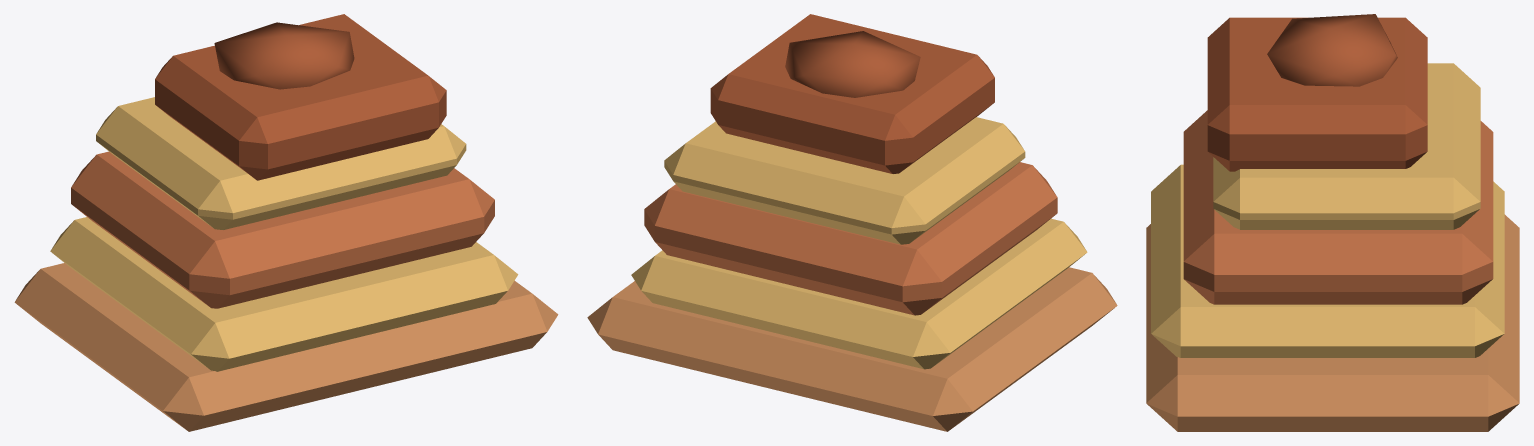
Rendered from hd_mesa_a.gltf.
3 renders of one model, left to right at view 1: azimuth 30°, elevation 25°; view 2: azimuth 150°, elevation 25°; view 3: azimuth 270°, elevation 25°, orthographic. The views are drawn at different scales.
Visible parts, largest first — view 1: strata0, strata2, strata1, strata4, strata3, cap; view 2: strata0, strata2, strata1, strata3, strata4, cap; view 3: strata0, strata2, strata4, strata1, strata3, cap.
Part boxes in pixels (x1=…): strata0: x1=14, y1=263, x2=558, y2=431; strata2: x1=71, y1=151, x2=494, y2=308; strata1: x1=50, y1=217, x2=518, y2=371; strata4: x1=155, y1=14, x2=446, y2=180; strata3: x1=96, y1=97, x2=466, y2=229; cap: x1=214, y1=22, x2=354, y2=89; strata0: x1=587, y1=267, x2=1117, y2=431; strata2: x1=644, y1=162, x2=1057, y2=315; strata1: x1=631, y1=218, x2=1087, y2=369; strata3: x1=664, y1=117, x2=1025, y2=244; strata4: x1=710, y1=14, x2=994, y2=173; cap: x1=785, y1=31, x2=920, y2=97; strata0: x1=1146, y1=214, x2=1519, y2=431; strata2: x1=1183, y1=110, x2=1493, y2=304; strata4: x1=1207, y1=17, x2=1427, y2=171; strata1: x1=1151, y1=164, x2=1504, y2=357; strata3: x1=1213, y1=63, x2=1480, y2=229; cap: x1=1267, y1=14, x2=1397, y2=86.
Bounding box in the file's own units: 5.94 × 4.32 × 4.65.
